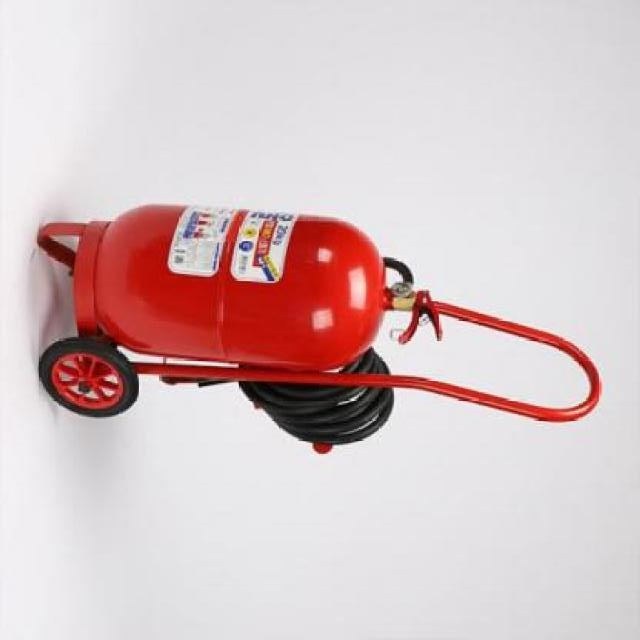fire extinguisher: (94, 202, 443, 371)
